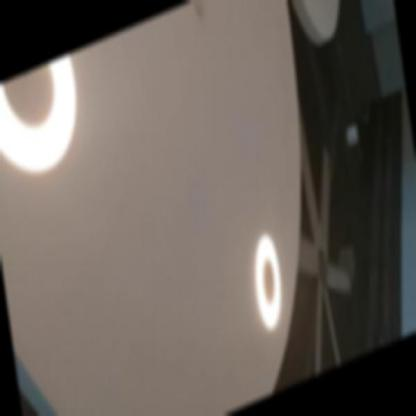light_on: (0, 47, 100, 202), (240, 206, 298, 350)
